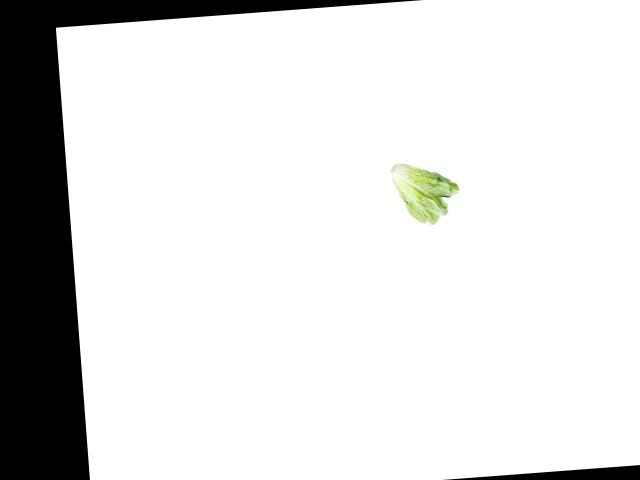lettuce: (388, 158, 462, 236)
